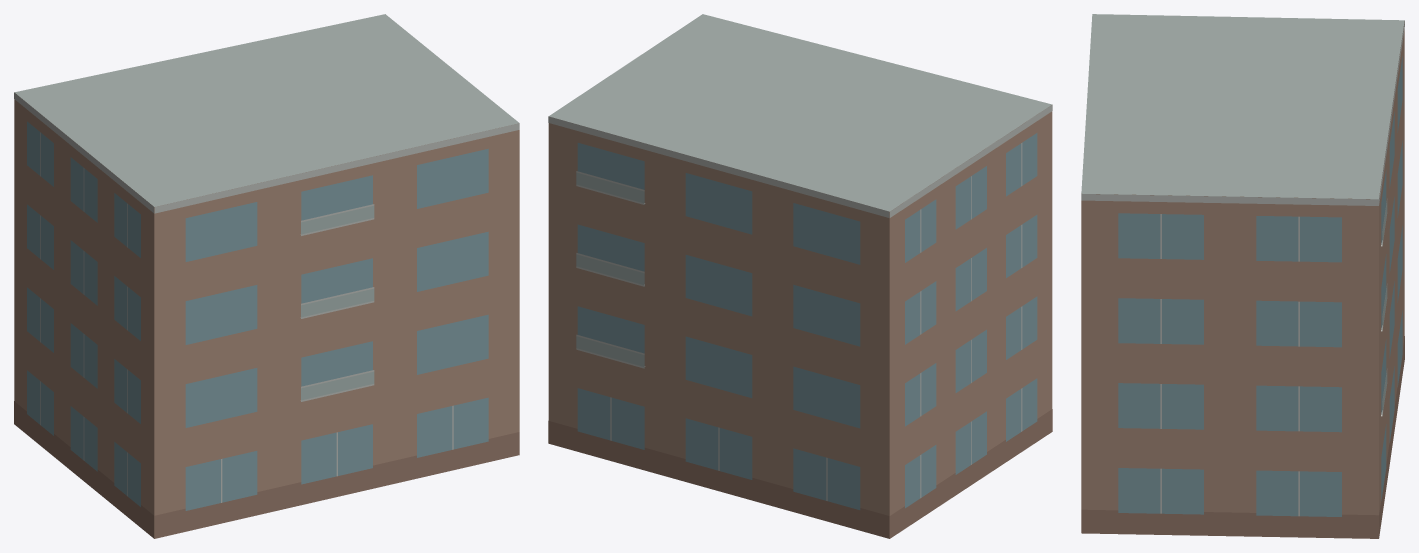
File: survey-upis-32566272.glb
The picture shows the model from 3 angles, left to right: view 1: azimuth 30°, elevation 25°; view 2: azimuth 150°, elevation 25°; view 3: azimuth 270°, elevation 25°; orthographic projection. The views are drawn at different scales.
Visible parts, largest first — view 1: survey-upis-32566272.tmp; view 2: survey-upis-32566272.tmp; view 3: survey-upis-32566272.tmp.
Part boxes in pixels (left/top/right/bottom): survey-upis-32566272.tmp: left=14, top=14, right=519, bottom=538; survey-upis-32566272.tmp: left=548, top=14, right=1052, bottom=538; survey-upis-32566272.tmp: left=1081, top=14, right=1404, bottom=538.
Size of the model in its own units: 14.28 by 12.2 by 10.54.
